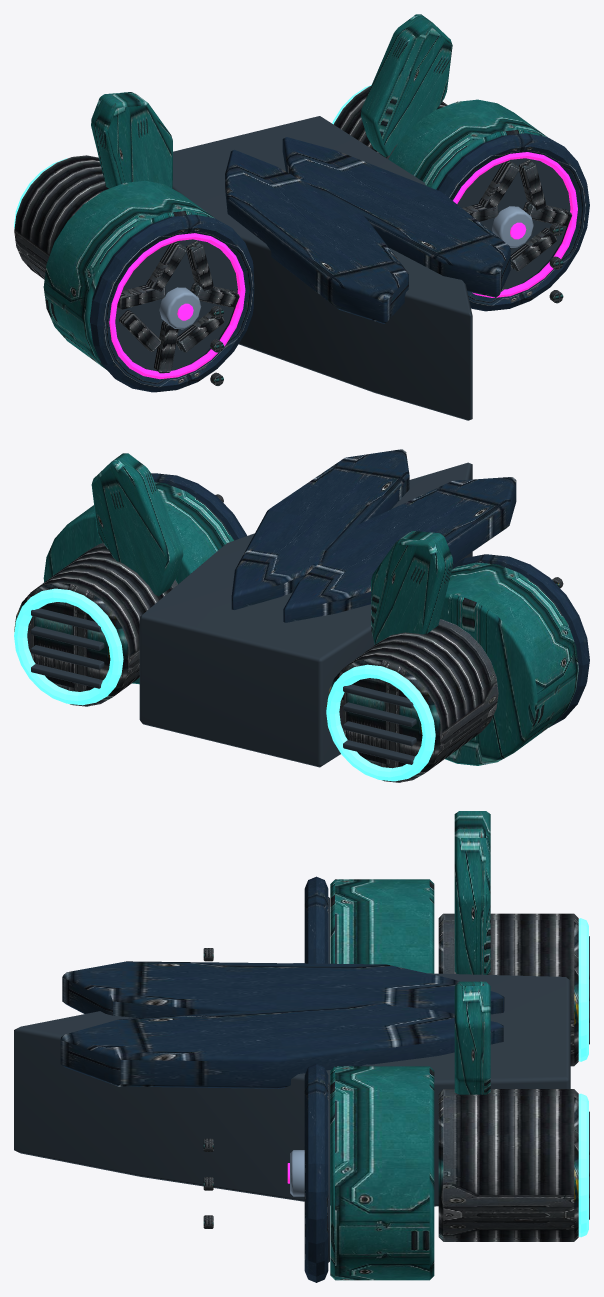
Rendered from sector_04_4.glb.
The picture shows the model from 3 angles, top to bottom: view 1: azimuth 30°, elevation 25°; view 2: azimuth 150°, elevation 25°; view 3: azimuth 270°, elevation 25°; orthographic projection. The views are drawn at different scales.
Visible parts, largest first — view 1: Split arrow nose, Pointed interceptor chassis, Swept dorsal vane, Turbine impeller blade, Turbine running light, Turbine hub; view 2: Pointed interceptor chassis, Swept dorsal vane, Split arrow nose, Turbine impeller blade, Pressure seal; view 3: Split arrow nose, Pointed interceptor chassis, Swept dorsal vane, Turbine impeller blade, Pressure seal, Turbine hub.
Part boxes in pixels (x1,y1,x2,y2): Split arrow nose: [90, 133, 589, 392]; Pointed interceptor chassis: [115, 116, 570, 420]; Swept dorsal vane: [43, 14, 546, 369]; Turbine impeller blade: [14, 86, 571, 385]; Turbine running light: [109, 152, 577, 379]; Turbine hub: [159, 206, 533, 329]; Pointed interceptor chassis: [31, 462, 472, 767]; Swept dorsal vane: [43, 453, 578, 765]; Split arrow nose: [151, 449, 589, 727]; Turbine impeller blade: [14, 494, 563, 782]; Pressure seal: [14, 588, 435, 781]; Split arrow nose: [60, 876, 504, 1282]; Pointed interceptor chassis: [14, 897, 589, 1262]; Swept dorsal vane: [330, 811, 490, 1280]; Turbine impeller blade: [203, 913, 578, 1241]; Pressure seal: [578, 918, 588, 1237]; Turbine hub: [290, 963, 304, 1196].
Bounding box in the file's own units: 1.47 × 0.6893 × 1.28.
Materials: 7 (3 with a texture image).
